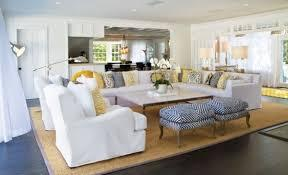chair: (49, 86, 145, 172), (32, 74, 112, 127), (161, 105, 216, 140), (207, 99, 253, 137), (104, 64, 120, 74), (135, 60, 146, 71), (119, 63, 130, 72), (145, 60, 154, 71), (126, 58, 132, 69)
door: (17, 27, 44, 99)
light: (32, 54, 87, 72), (153, 56, 174, 91), (230, 45, 253, 68), (7, 34, 29, 56), (221, 38, 235, 67), (118, 34, 128, 60), (212, 39, 220, 62), (150, 55, 162, 68), (53, 0, 65, 8), (210, 10, 218, 19), (131, 7, 140, 14)
sofa: (75, 67, 180, 104), (178, 70, 264, 108)
table: (110, 85, 215, 118), (107, 62, 142, 71)
